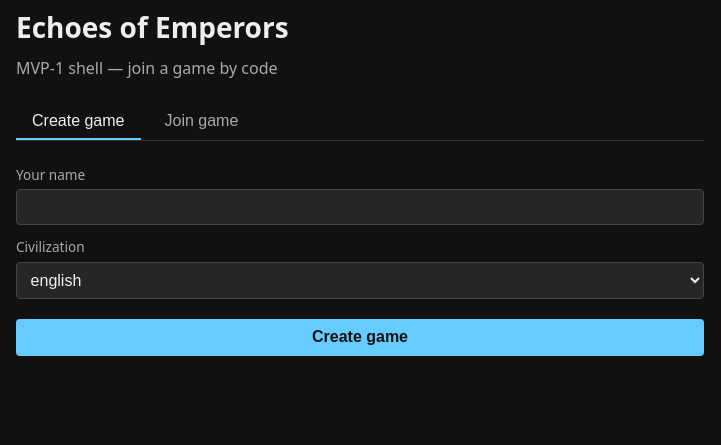
<Home /> › switches to the Join form when the Join tab is clicked
Click the tab "Join game".
click(201, 122)  # box [148,104,254,140]
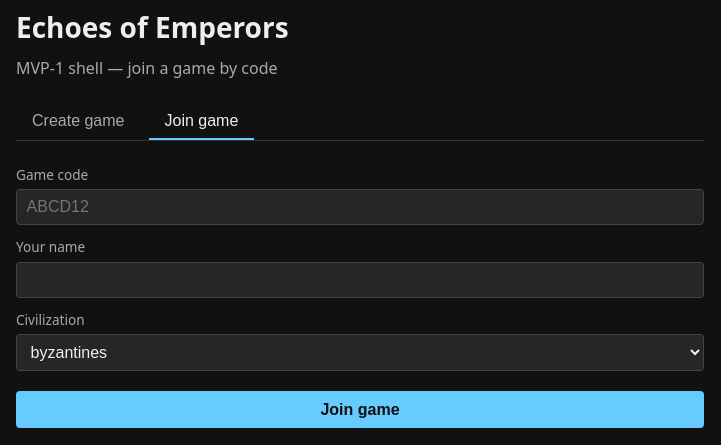
expect the form "Game code Your name Civilization Join game" is shown: met, box [16,165,704,428]
